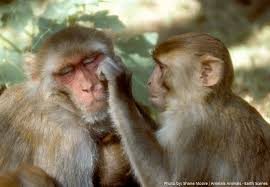monkey: (111, 15, 254, 177), (16, 14, 126, 154)
